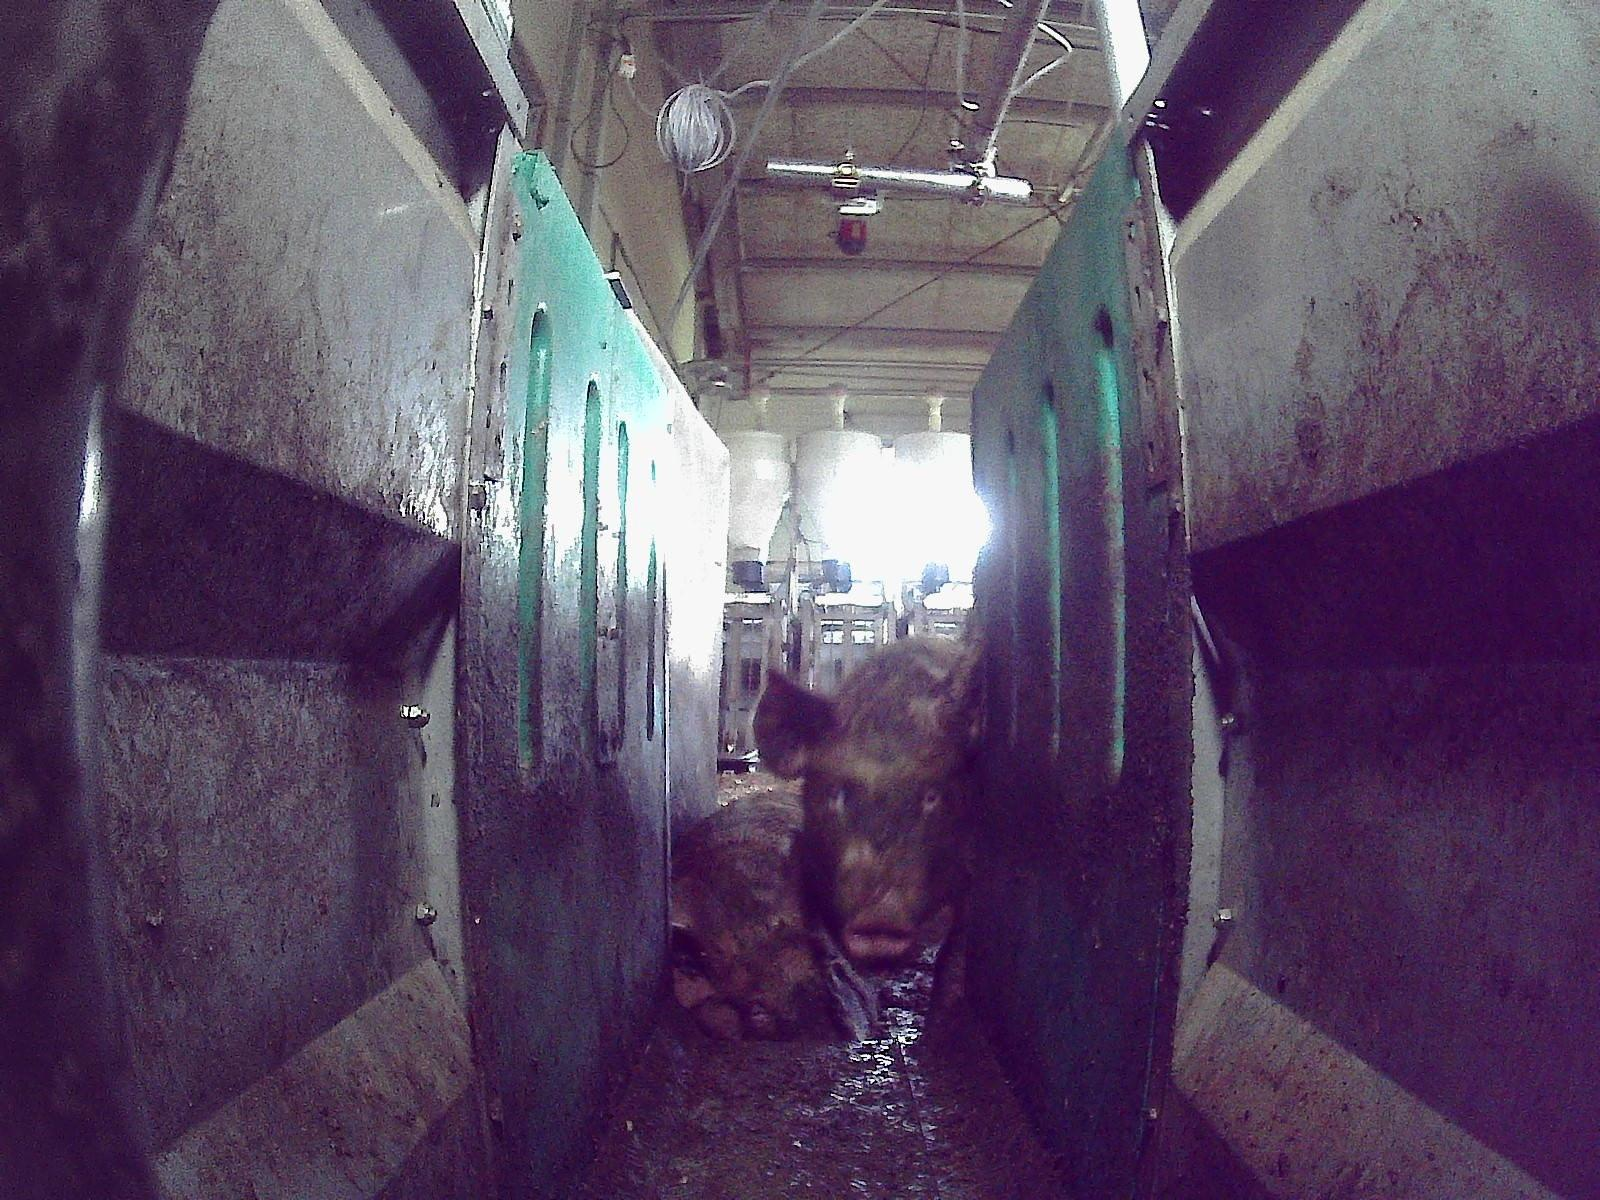Face: (804, 724, 954, 961)
